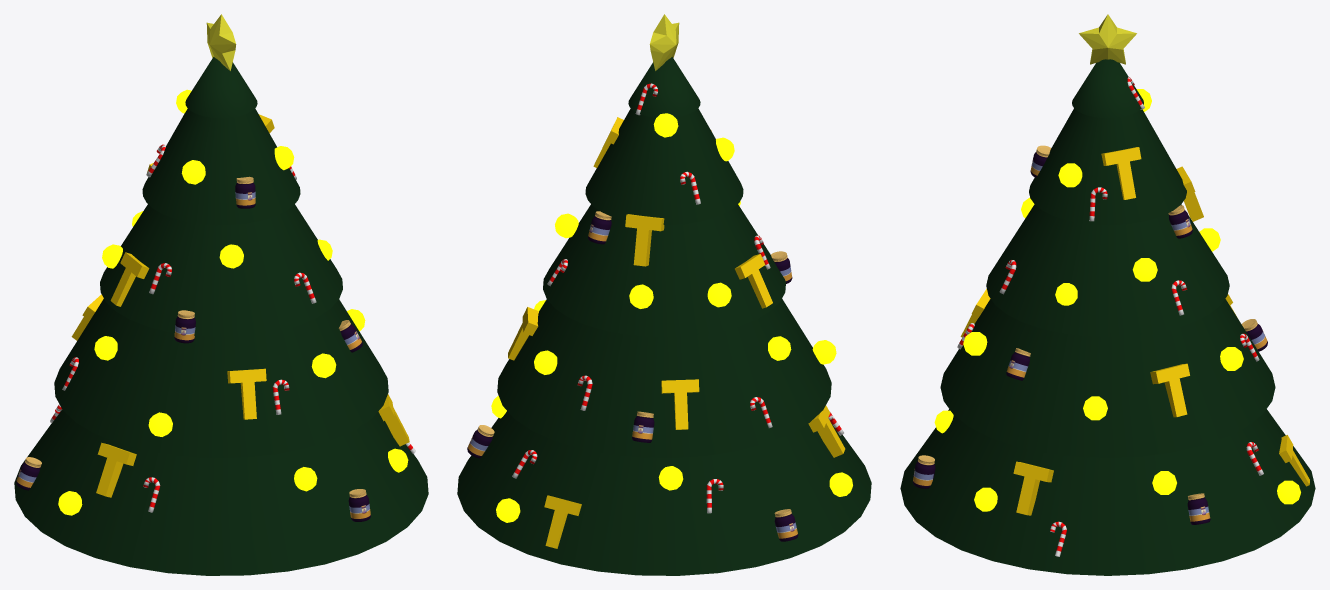
File: XMasTree.glb
3 views of the same model, side by side, from view 1: azimuth 30°, elevation 25°; view 2: azimuth 150°, elevation 25°; view 3: azimuth 270°, elevation 25° (orthographic).
Visible parts, largest first — view 1: TreeMain, T.007, Star, T.008, T.006, T, Jar.005, Jar.007, Jar.006, Jar.004; view 2: TreeMain, T.004, Star, T.003, T.005, T.006, T.007, T.001, Jar.004, Jar, Jar.002, Jar.003; view 3: TreeMain, Star, T, T.001, T.002, Jar.007, T.004, Jar.002, T.005, Jar, Jar.001.
Boxes of the visible parts, x1,y1,x2,y2 form: TreeMain: (14,57,428,575); T.007: (96,442,136,497); Star: (206,14,236,70); T.008: (227,368,266,419); T.006: (110,252,149,306); T: (378,394,409,446); Jar.005: (174,310,195,343); Jar.007: (348,489,370,521); Jar.006: (235,176,255,208); Jar.004: (16,457,41,490); TreeMain: (457,57,871,575); T.004: (625,214,664,266); Star: (649,14,679,70); T.003: (661,379,699,429); T.005: (544,495,581,548); T.006: (735,254,772,308); T.007: (808,405,845,457); T.001: (508,307,538,360); Jar.004: (774,509,798,541); Jar: (588,211,611,244); Jar.002: (467,425,494,458); Jar.003: (632,411,654,442); TreeMain: (900,59,1315,575); Star: (1079,14,1136,64); T: (1013,461,1053,515); T.001: (1150,363,1189,417); T.002: (1101,147,1141,199); Jar.007: (913,455,935,488); T.004: (1176,166,1203,221); Jar.002: (1187,493,1210,524); T.005: (1279,435,1309,486); Jar: (1168,205,1192,238); Jar.001: (1006,348,1030,380).
Size of the model in its own units: 1.74 by 2.51 by 1.74.
13 materials, 1 textured.
